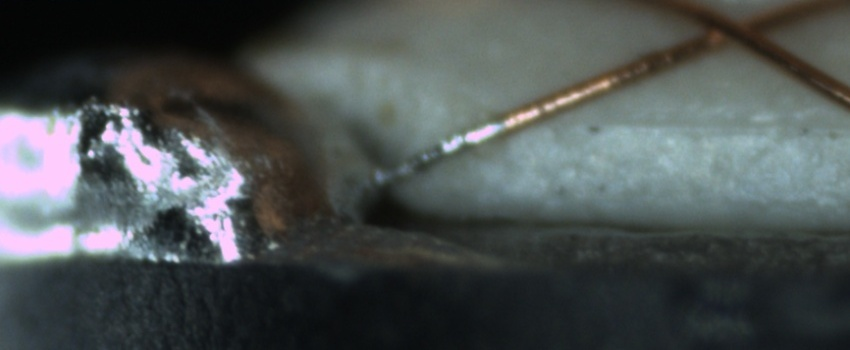CL: (684, 1, 779, 58)
DL: (549, 98, 850, 162)
TS: (371, 116, 505, 190)
TTCW: (367, 102, 522, 188)
